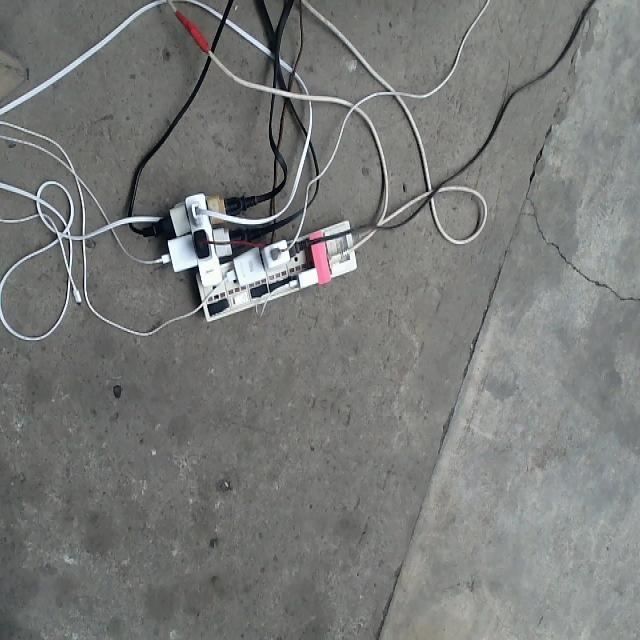-: (160, 191, 359, 320)
